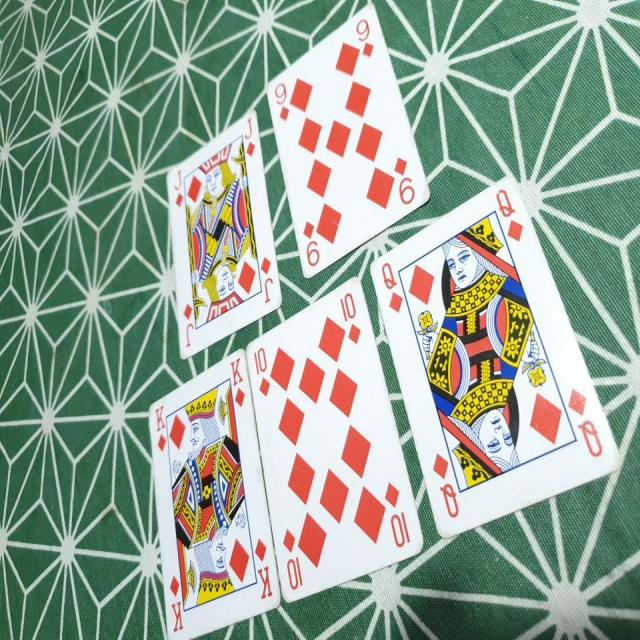10 Diamonds: (245, 272, 424, 601)
9 Diamonds: (263, 1, 430, 278)
J Diamonds: (165, 106, 284, 357)
K Diamonds: (148, 346, 282, 640)
Q Diamonds: (368, 173, 622, 538)
